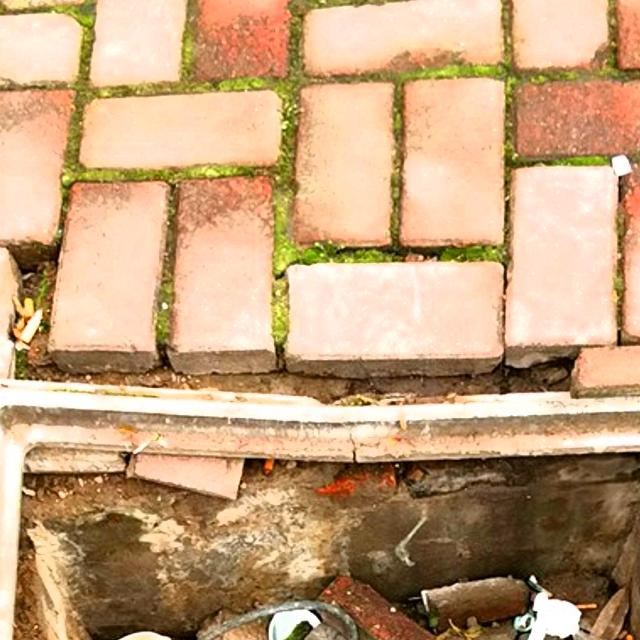lose: (0, 375, 640, 640)
